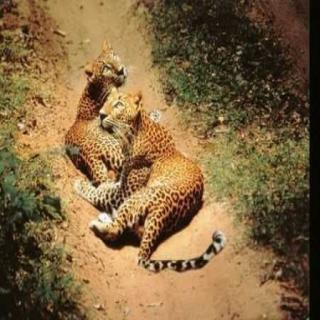Leopard: (99, 74, 236, 300), (42, 53, 140, 194)
